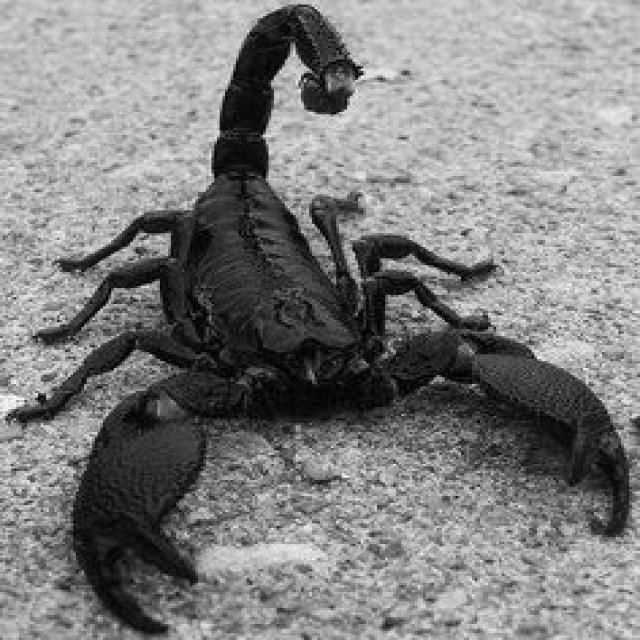Carnivorous: (14, 5, 629, 633)
